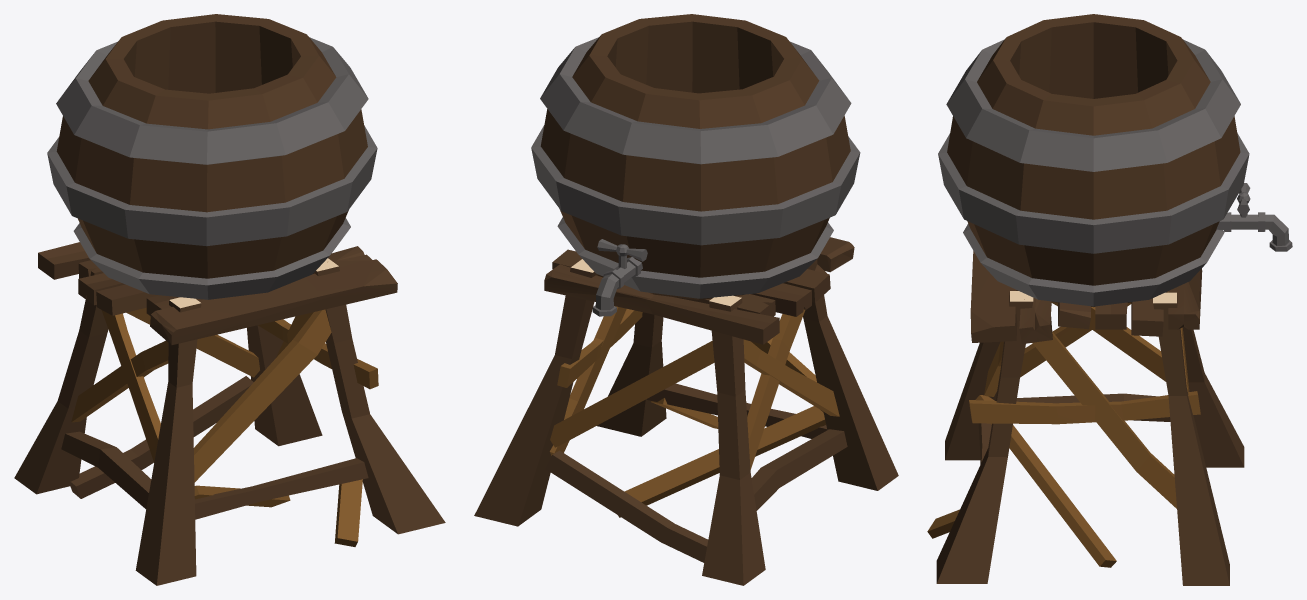
Rendered from RESERVE EAU 3.fbx.
3 renders of one model, left to right at view 1: azimuth 30°, elevation 25°; view 2: azimuth 150°, elevation 25°; view 3: azimuth 270°, elevation 25°, orthographic.
Visible parts, largest first — view 1: Cube.009; view 2: Cube.009; view 3: Cube.009.
Part boxes in pixels (<box>): Cube.009: <box>14,14,445,585</box>; Cube.009: <box>474,14,898,585</box>; Cube.009: <box>927,14,1292,585</box>.
Bounding box in the file's own units: 400 × 600 × 419.
